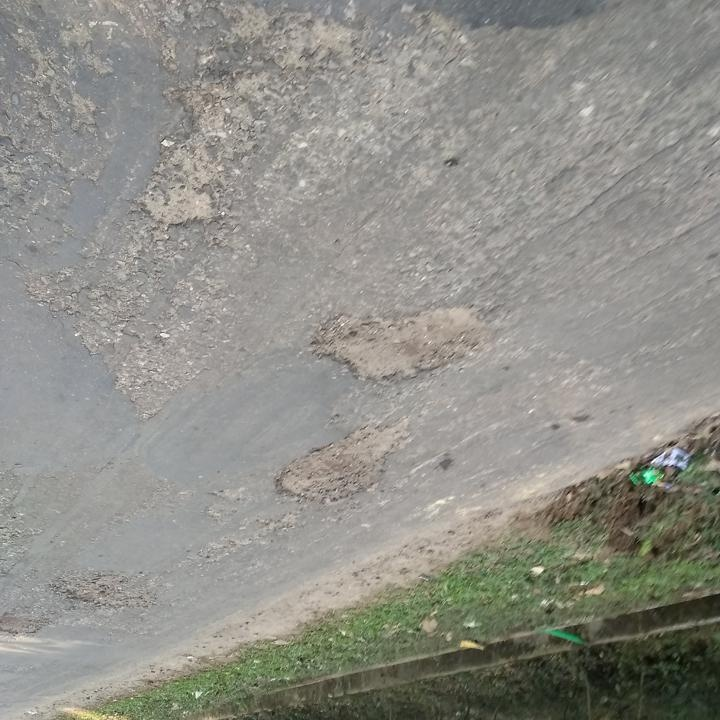pothole: (307, 299, 486, 389), (267, 418, 404, 505), (132, 174, 217, 234), (53, 567, 146, 612), (0, 609, 51, 641)
